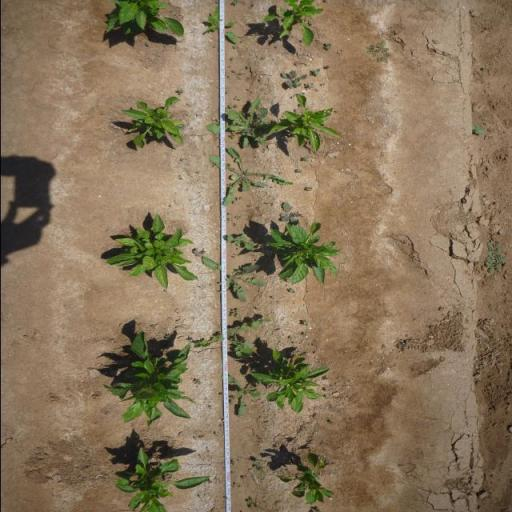plant: (99, 329, 196, 427), (100, 212, 200, 290), (110, 443, 212, 512), (249, 349, 331, 415), (264, 221, 341, 287), (267, 95, 340, 155), (117, 93, 183, 152), (272, 449, 334, 505), (102, 0, 186, 40), (262, 0, 323, 49), (205, 6, 237, 44)
weed: (206, 145, 295, 207), (202, 95, 277, 150), (190, 318, 273, 360), (199, 253, 266, 304), (219, 373, 262, 418), (483, 242, 506, 274), (364, 39, 392, 62), (280, 68, 306, 88), (278, 202, 301, 224), (226, 233, 254, 251), (245, 497, 260, 512), (471, 124, 486, 136), (252, 460, 263, 474), (228, 308, 242, 318), (224, 102, 238, 112), (309, 66, 320, 77), (192, 248, 206, 256), (232, 70, 242, 79), (192, 378, 202, 386), (228, 395, 234, 406), (301, 319, 309, 327), (324, 42, 332, 50), (300, 156, 310, 162), (164, 333, 170, 341), (235, 195, 243, 201), (304, 186, 312, 192), (306, 82, 314, 88), (231, 0, 239, 6), (176, 88, 184, 94), (225, 217, 232, 223), (294, 168, 301, 174), (288, 288, 294, 294), (235, 214, 241, 220), (149, 324, 156, 329), (143, 42, 150, 47), (300, 331, 306, 336), (284, 278, 290, 283), (324, 64, 329, 70), (177, 124, 183, 129), (296, 93, 305, 96), (482, 66, 487, 71), (230, 134, 234, 140), (234, 44, 236, 50), (231, 56, 233, 62), (225, 90, 229, 93), (254, 308, 260, 310), (232, 200, 234, 204)
